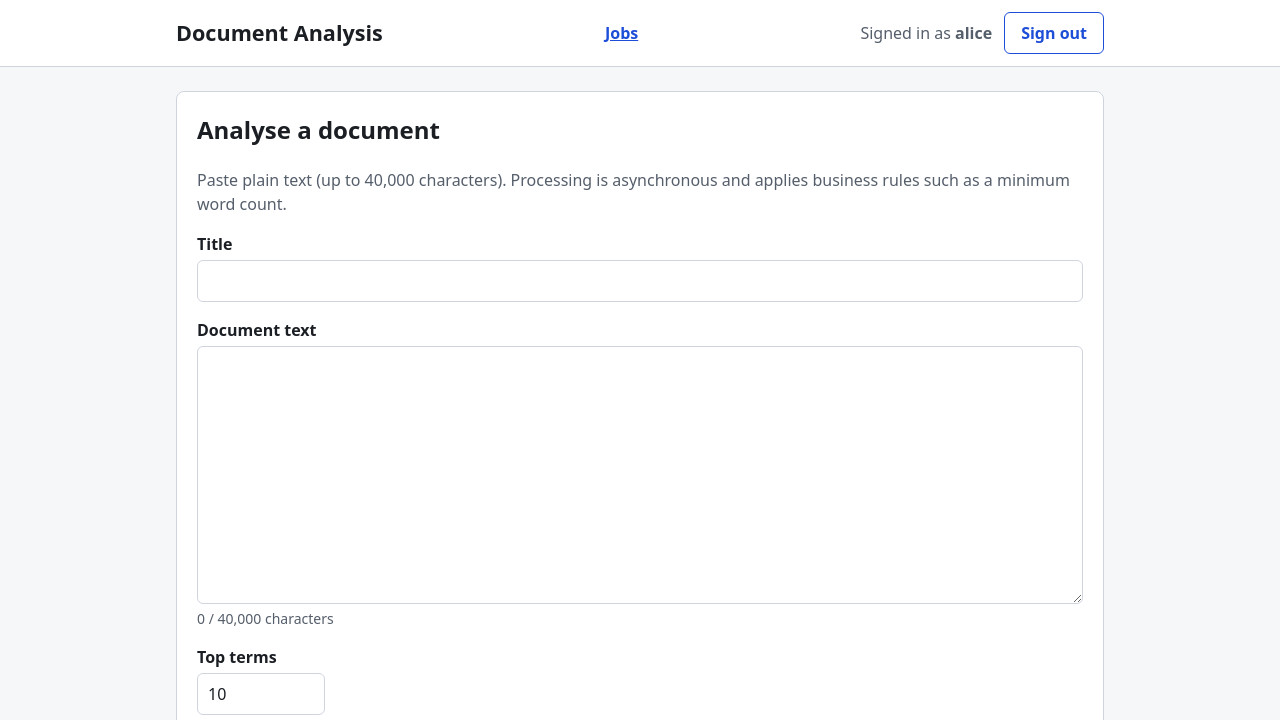
Test case: AuthGate › signs out locally and at the IdP
Click the button "Sign out".
click(1054, 33)  # box left=1004, top=12, right=1104, bottom=54
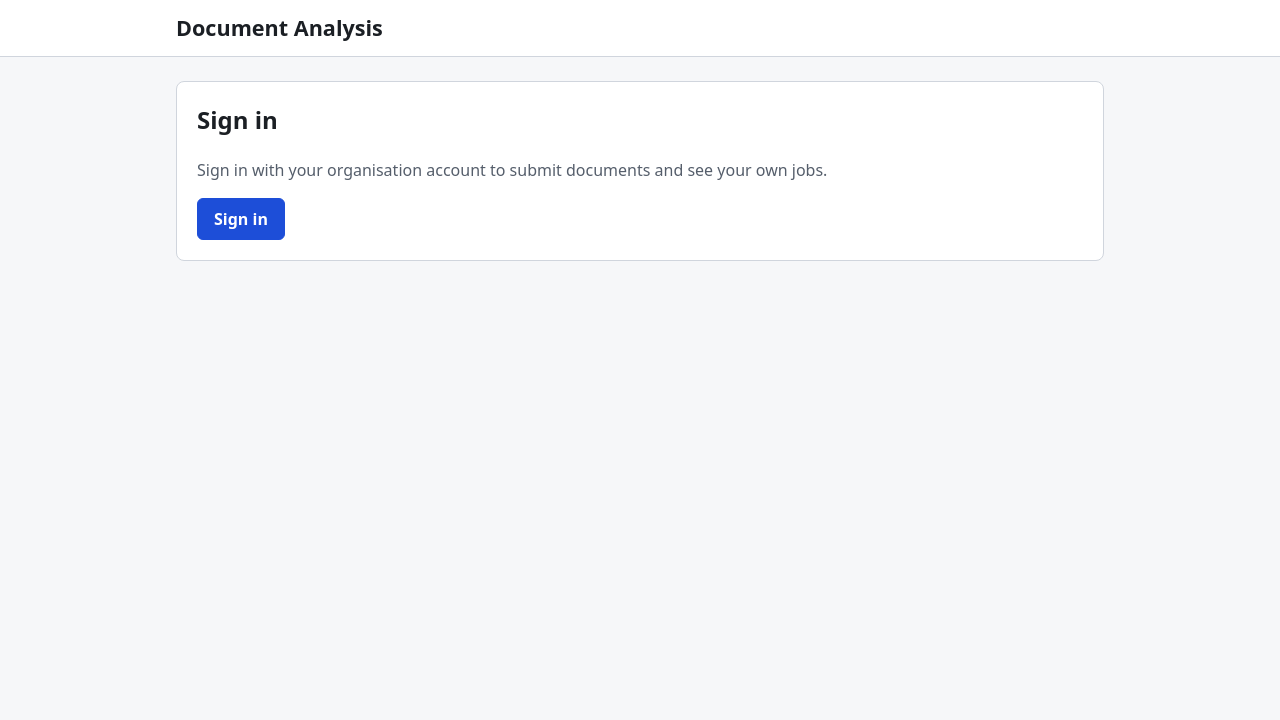
Now the heading "Sign in" is shown, box left=197, top=103, right=278, bottom=136
